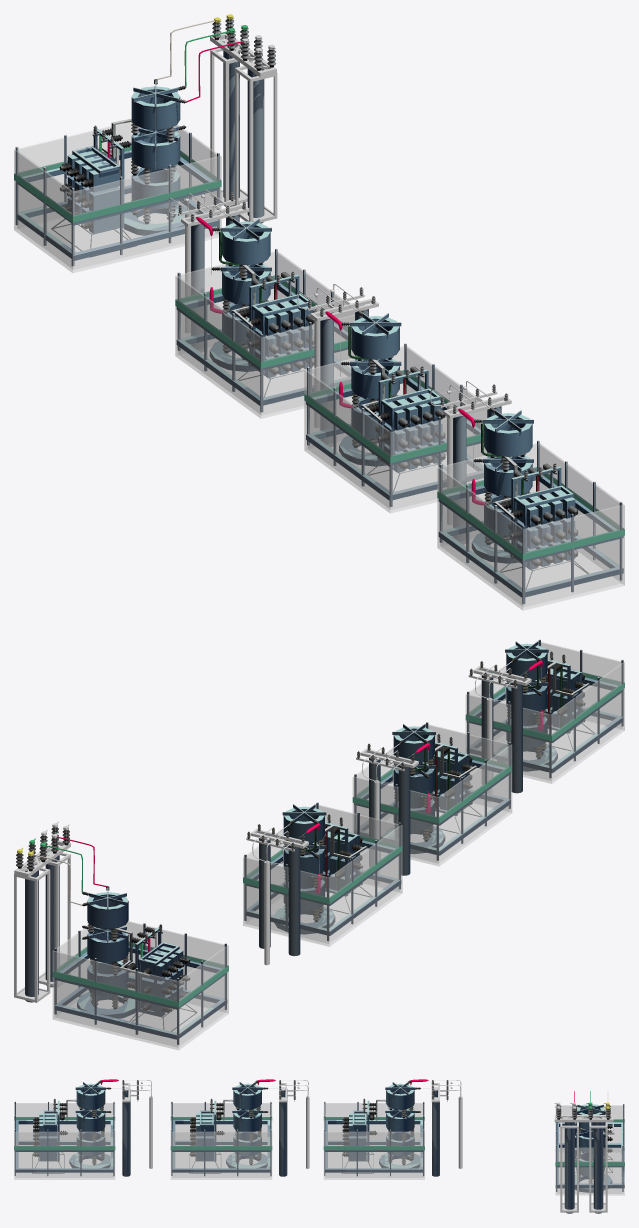
The picture shows the model from 3 angles, top to bottom: view 1: azimuth 30°, elevation 25°; view 2: azimuth 150°, elevation 25°; view 3: azimuth 270°, elevation 25°; orthographic projection. The views are drawn at different scales.
Parts seen in each view (by area): view 1: 3-材质.15, 3-螺旋2, 3-封顶, 3-玻璃池, 3-材质.59 (×2), 3-材质.66, 3-材质.17; view 2: 3-材质.15, 3-螺旋2, 3-封顶, 3-玻璃池, 3-材质.59 (×2), 3-材质.66, 3-材质.17; view 3: 3-材质.15, 3-封顶, 3-螺旋2, 3-玻璃池, 3-材质.59 (×3), 3-材质.66, 3-材质.17.
Part boxes in pixels (<box>): 3-材质.15: <box>14,122,624,610</box>; 3-螺旋2: <box>177,192,622,604</box>; 3-封顶: <box>176,218,623,597</box>; 3-玻璃池: <box>15,19,275,266</box>; 3-材质.59 (×2): <box>168,37,511,524</box>; 3-材质.66: <box>14,145,624,560</box>; 3-材质.17: <box>178,196,497,468</box>; 3-材质.15: <box>52,641,624,1050</box>; 3-螺旋2: <box>244,639,623,956</box>; 3-封顶: <box>246,641,623,935</box>; 3-玻璃池: <box>16,827,227,1044</box>; 3-材质.59 (×2): <box>14,666,531,1002</box>; 3-材质.66: <box>52,670,624,1007</box>; 3-材质.17: <box>246,661,541,872</box>; 3-材质.15: <box>14,1103,624,1195</box>; 3-封顶: <box>15,1082,423,1172</box>; 3-螺旋2: <box>14,1080,448,1176</box>; 3-玻璃池: <box>555,1104,624,1213</box>; 3-材质.59 (×3): <box>122,1080,613,1212</box>; 3-材质.66: <box>14,1117,624,1165</box>; 3-材质.17: <box>111,1080,447,1101</box>.
Bounding box in the file's own units: 4.27 × 3.48 × 17.62.
12 materials, 3 textured.
